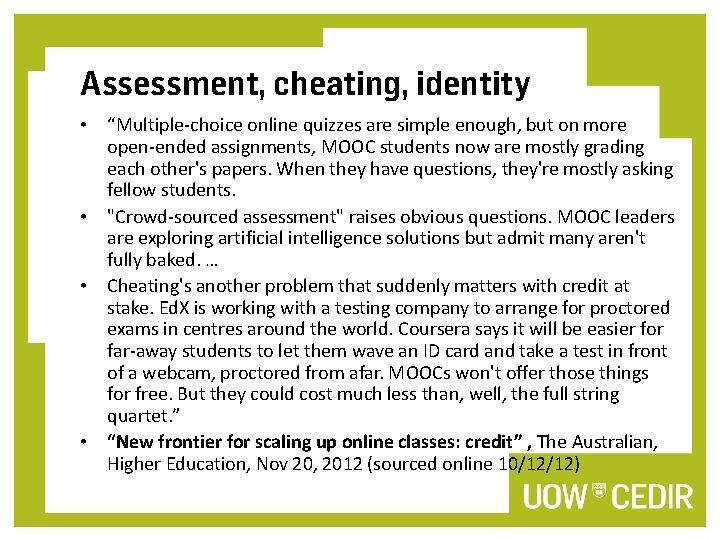paragraph: (74, 109, 680, 476)
title: (69, 64, 545, 106)
